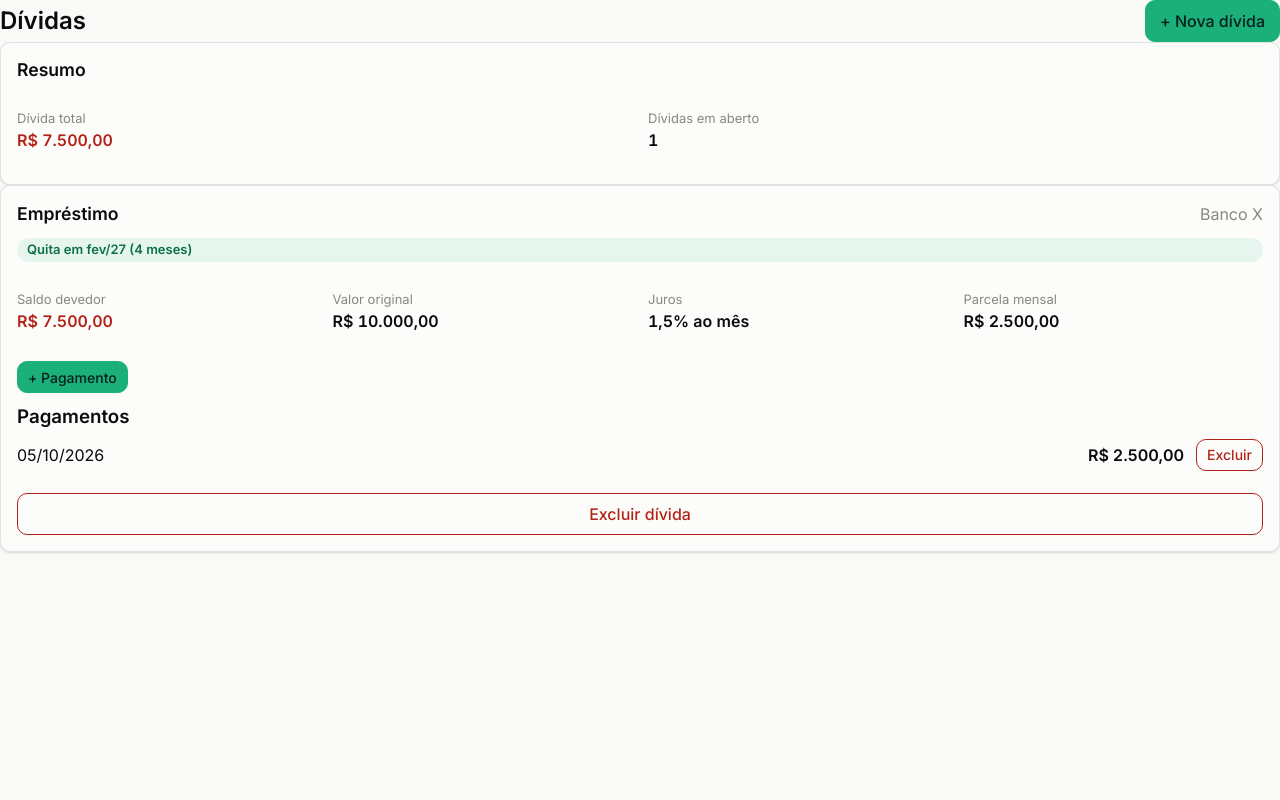
DebtsPage › hides the new-debt form once debts exist and opens it from a "+ Nova dívida" button (AC-U6)
The width and height of the screenshot is (1280, 800).
Check: the element "Empréstimo" is shown, box [0,186,1279,552]
Check: the field labelled "Nome da dívida" is not shown
Click the button "+ Nova dívida": point(1212, 21) [1145,0,1279,42]
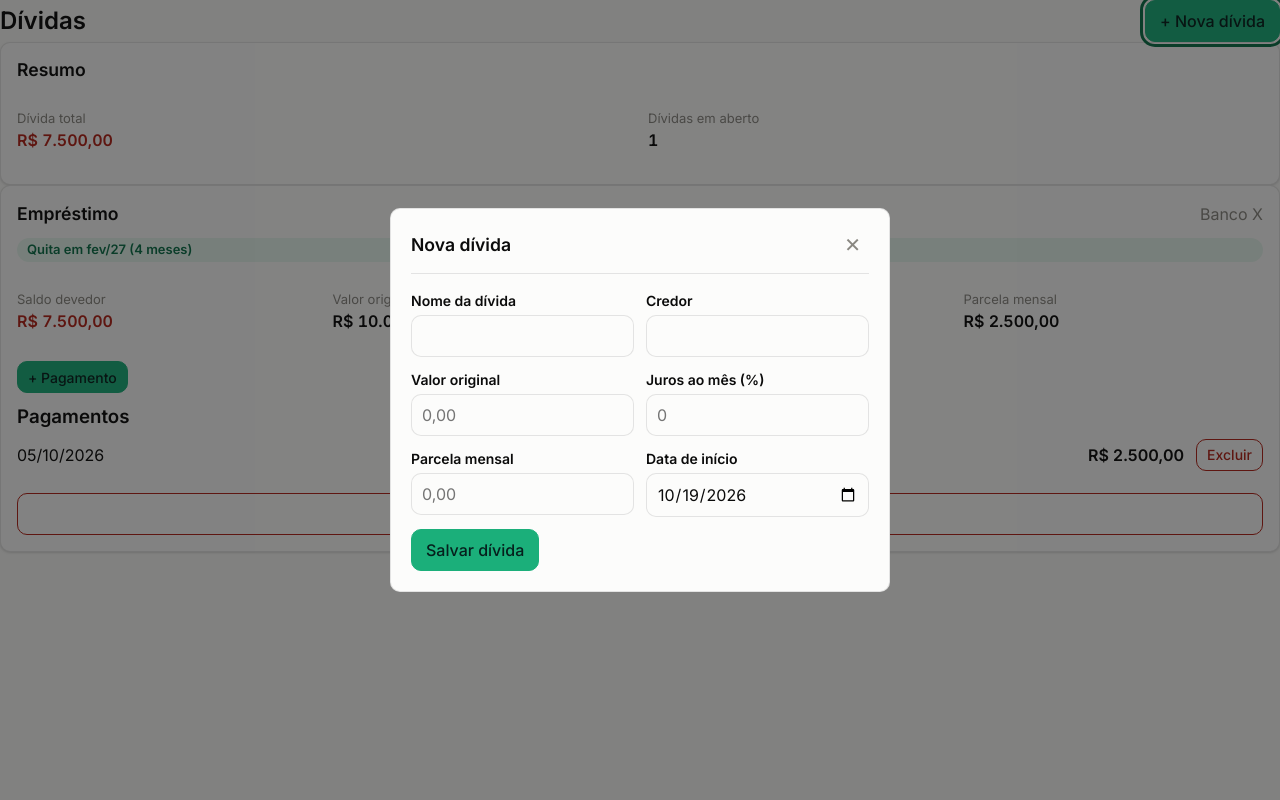
Check: the field labelled "Nome da dívida" is shown, box [411,315,634,357]
